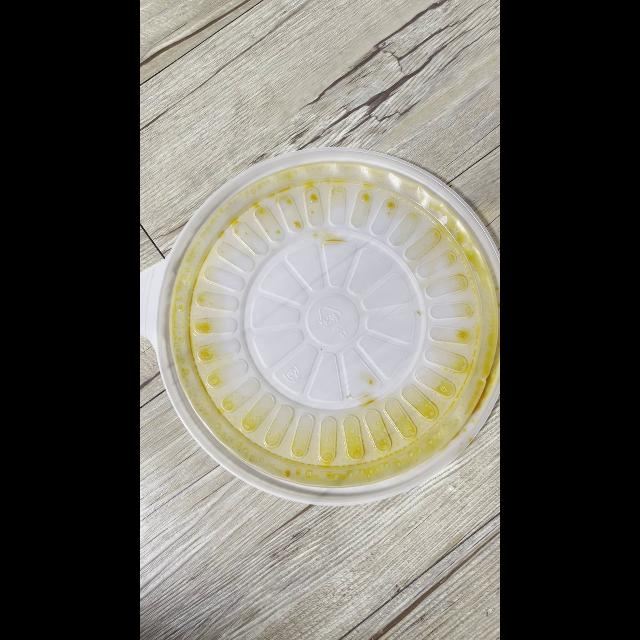dirty: (162, 159, 500, 506)
